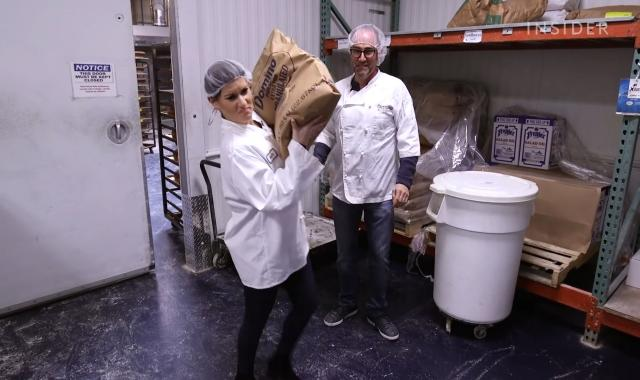hairnet: (346, 23, 389, 67), (202, 60, 250, 95)
